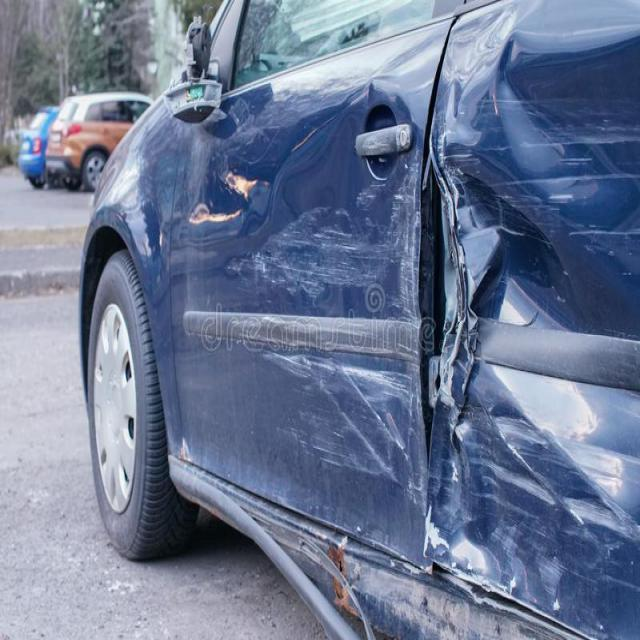RunningBoard-Dent: (332, 560, 594, 638)
